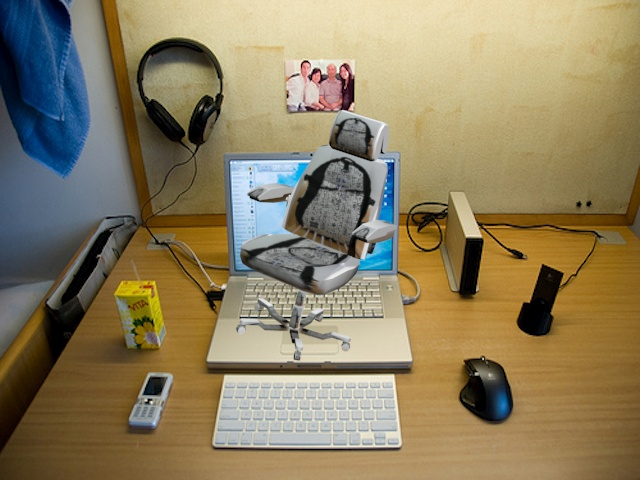desk_chair: (233, 105, 401, 368)
